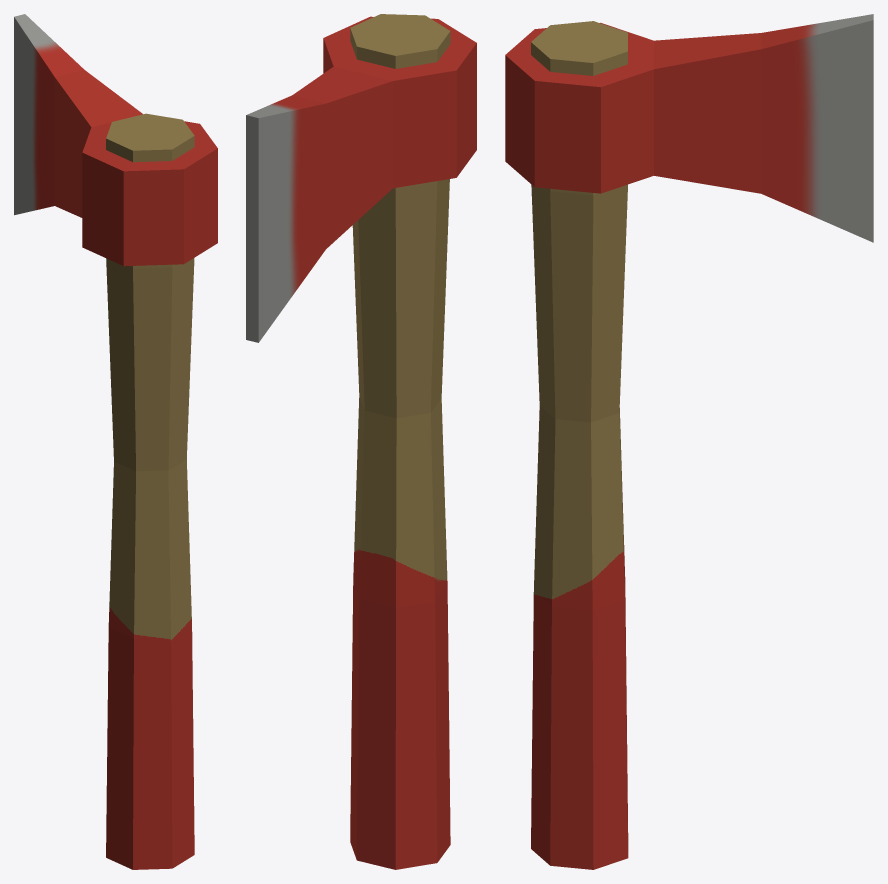
File: Machado.fbx
3 views of the same model, side by side, from view 1: azimuth 30°, elevation 25°; view 2: azimuth 150°, elevation 25°; view 3: azimuth 270°, elevation 25° (orthographic). The views are drawn at different scales.
Parts seen in each view (by area): view 1: Cylinder; view 2: Cylinder; view 3: Cylinder.
Boxes of the visible parts, <box> form: Cylinder: <box>14,14,217,869</box>; Cylinder: <box>246,14,476,869</box>; Cylinder: <box>505,14,873,869</box>.
Bounding box in the file's own units: 31.56 × 190 × 76.26.
